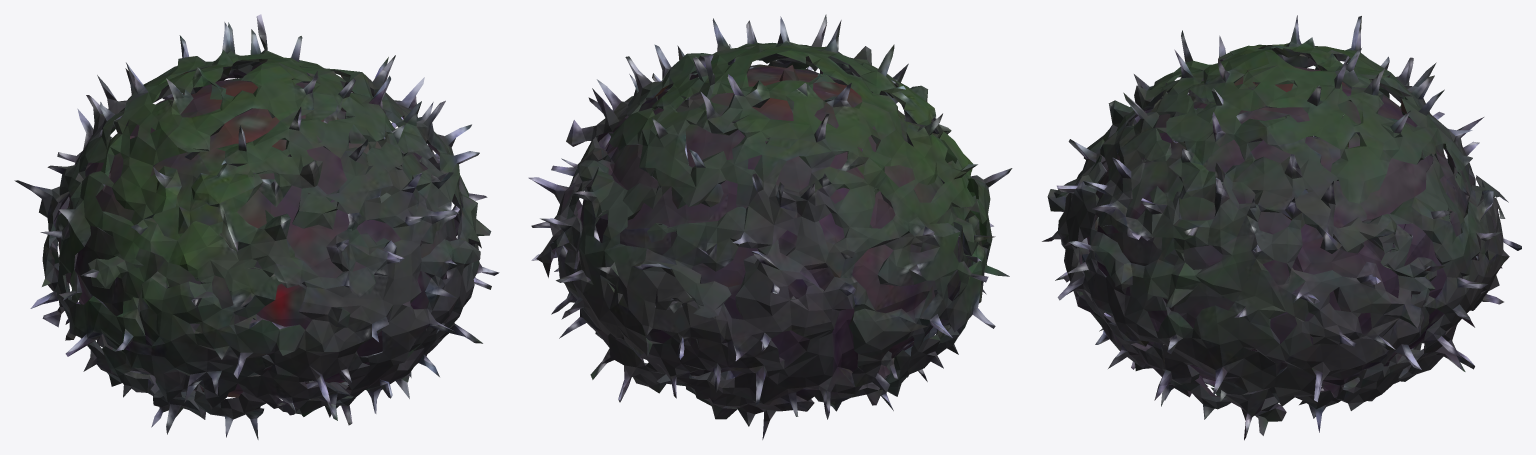
File: thorn_bush.glb
The picture shows the model from 3 angles, left to right: view 1: azimuth 30°, elevation 25°; view 2: azimuth 150°, elevation 25°; view 3: azimuth 270°, elevation 25°; orthographic projection.
Visible parts, largest first — view 1: tmpy9oj6v50.ply; view 2: tmpy9oj6v50.ply; view 3: tmpy9oj6v50.ply.
Boxes of the visible parts, x1,y1,x2,y2 form: tmpy9oj6v50.ply: [14, 14, 499, 439]; tmpy9oj6v50.ply: [528, 14, 1012, 439]; tmpy9oj6v50.ply: [1042, 15, 1521, 440].
Size of the model in its own units: 1.97 by 1.58 by 2.
1 material, 1 textured.
